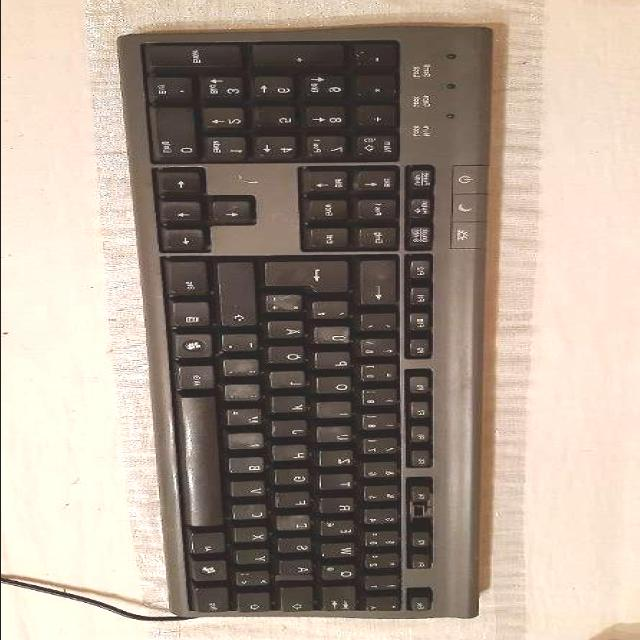0: (363, 366, 405, 386)
1: (367, 577, 405, 594)
2: (367, 555, 405, 573)
3: (367, 533, 405, 551)
4: (367, 511, 405, 529)
5: (367, 488, 405, 506)
6: (367, 464, 405, 482)
7: (367, 441, 405, 459)
8: (365, 416, 405, 436)
9: (365, 391, 405, 411)
a: (281, 561, 319, 583)
accent: (365, 316, 403, 336)
ae: (273, 322, 309, 342)
alt-left: (195, 536, 231, 558)
altgr-right: (184, 369, 220, 394)
b: (233, 460, 271, 478)
c: (237, 506, 273, 523)
caret: (367, 598, 405, 614)
comma: (228, 387, 266, 405)
d: (280, 518, 316, 534)
del: (365, 262, 405, 308)
e: (323, 523, 361, 540)
enter: (267, 263, 356, 296)
f: (280, 494, 318, 511)
g: (280, 471, 314, 489)
h: (277, 448, 315, 465)
hash: (270, 297, 308, 317)
i: (322, 404, 358, 422)
j: (275, 423, 313, 441)
k: (277, 399, 313, 417)
keyboard: (111, 20, 500, 626)
l: (274, 373, 312, 391)
less: (238, 573, 276, 590)
m: (231, 411, 269, 429)
minus: (226, 336, 264, 356)
n: (232, 435, 270, 453)
o: (322, 379, 358, 397)
oe: (273, 349, 311, 367)
p: (322, 354, 356, 372)
plus: (316, 304, 354, 324)
point: (228, 361, 264, 381)
q: (326, 567, 362, 585)
r: (324, 500, 362, 518)
s: (281, 540, 317, 556)
shift-left: (240, 595, 273, 616)
shift-lock: (280, 587, 318, 615)
shift-right: (223, 264, 263, 330)
space: (182, 398, 230, 530)
ss: (363, 341, 405, 361)
strg-left: (198, 590, 234, 616)
strg-right: (173, 264, 213, 300)
t: (324, 477, 360, 494)
tab: (326, 589, 360, 615)
u: (320, 429, 358, 446)
ue: (318, 329, 356, 347)
v: (237, 483, 271, 501)
w: (324, 545, 362, 562)
x: (240, 530, 274, 546)
y: (240, 552, 274, 568)
z: (323, 452, 359, 470)
